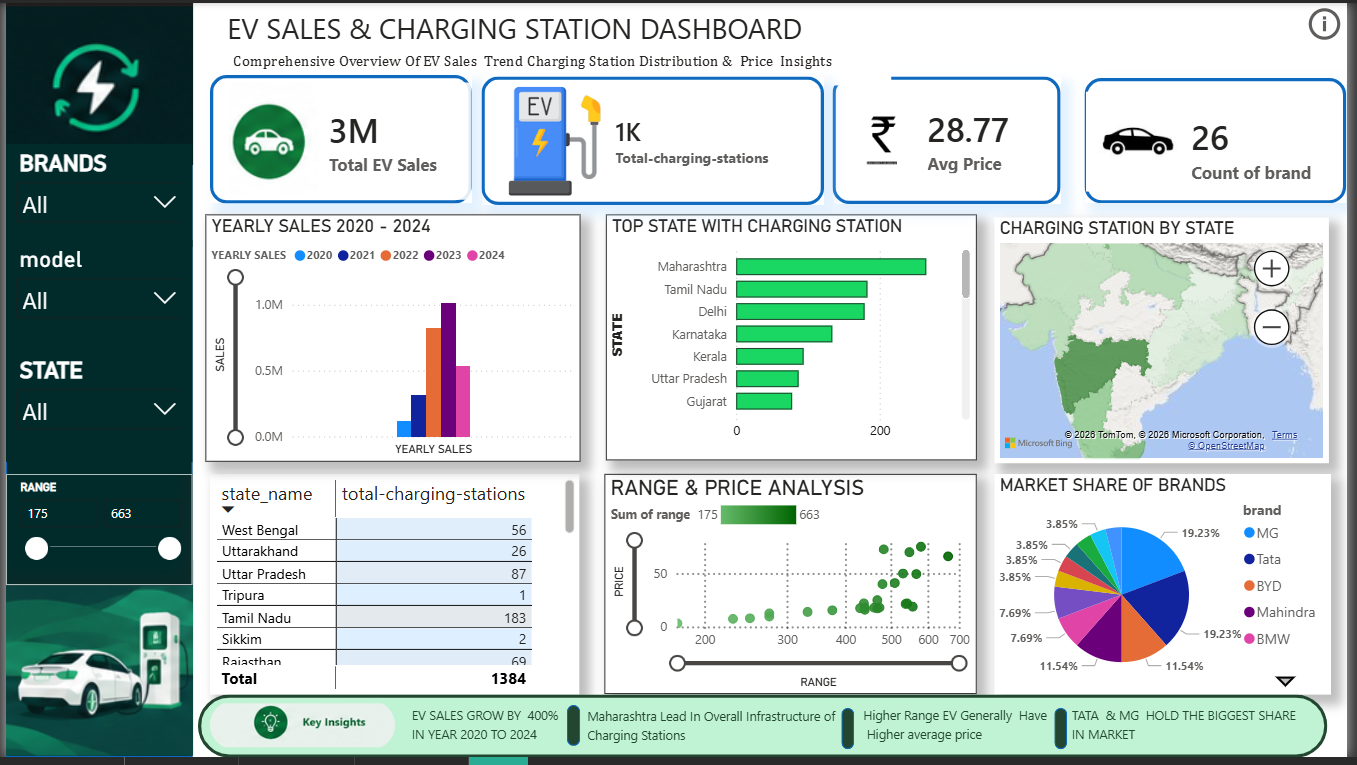

The page's visual inventory and layout, read from the dashboard file:
{"tool":"powerbi","page":{"name":"Page 2","canvas":[1280,720],"ordinal":1},"visuals":[{"type":"clusteredBarChart","title":"TOP STATE WITH CHARGING STATION ","fields":{"Category":["final_cleaned.state_name"],"Y":["Sum(final_cleaned.total-charging-stations)"]},"box":[573,202,353.8,234.9],"z":1000},{"type":"scatterChart","title":"RANGE & PRICE ANALYSIS","fields":{"X":["car_cleaned.range"],"Y":["car_cleaned.price"]},"box":[572,450,355,210],"z":2000},{"type":"shape","box":[789.2,70.2,217.7,121.8],"z":2500},{"type":"tableEx","fields":{"Values":["final_cleaned.state_name","Sum(final_cleaned.total-charging-stations)"]},"box":[195.3,449.7,352.8,210.5],"z":3000},{"type":"textbox","box":[212,40.1,633.1,38.7],"z":3500},{"type":"textbox","box":[206.3,0,644.6,50.1],"z":4000},{"type":"shape","box":[195.3,68.1,249.8,122.7],"z":6000},{"type":"cardVisual","fields":{"Data":["Table.Total EV Sales"]},"box":[279.3,75.9,164.7,111.7],"z":7000},{"type":"image","box":[195.3,75.7,121.1,107.5],"z":8000},{"type":"shape","box":[454.3,69.7,327.1,122.7],"z":9000},{"type":"cardVisual","fields":{"Data":["Sum(final_cleaned.total-charging-stations)"]},"box":[552.7,77.2,218,107.5],"z":10000},{"type":"image","box":[803.6,70.2,68.8,121.8],"z":11000},{"type":"cardVisual","fields":{"Data":["Table.Avg Price"]},"box":[850.8,81.6,150.4,98.8],"z":12000},{"type":"cardVisual","fields":{"Data":["CountNonNull(car_cleaned.brand)"]},"box":[1102.8,76.4,177.3,126.9],"z":13000},{"type":"shape","box":[1029.7,71.2,249.8,119.6],"z":14000},{"type":"image","box":[1032,78,94,110],"z":15000},{"type":"filledMap","title":"CHARGING STATION BY STATE ","fields":{"Category":["final_cleaned.state_name"]},"box":[943.3,204.4,319.5,234.7],"z":16000},{"type":"shape","box":[0,0,178,720],"z":17000},{"type":"image","box":[461.8,77.2,125.7,109],"z":18000},{"type":"clusteredColumnChart","title":"YEARLY SALES 2020 - 2024","fields":{"Y":["Sum(ev_sales.2020)","Sum(ev_sales.2021)","Sum(ev_sales.2022)","Sum(ev_sales.2023)","Sum(ev_sales.2024)"]},"box":[190,202,358,236],"z":19000},{"type":"pieChart","title":"MARKET SHARE  OF BRANDS","fields":{"Category":["car_cleaned.brand"],"Series":["car_cleaned.brand"],"Y":["CountNonNull(car_cleaned.brand)"]},"box":[943.3,449.7,321,210.5],"z":20000},{"type":"shape","box":[183.8,660.4,1078.4,60.2],"z":21000},{"type":"image","box":[195.4,665.4,176.9,46.9],"z":22000},{"type":"textbox","box":[383,665,189,50],"z":23000},{"type":"textbox","box":[549.4,665.5,256,51.2],"z":24000},{"type":"textbox","box":[813,665,217,47],"z":25000},{"type":"textbox","box":[1013,665,226,47],"z":26000},{"type":"shape","box":[535.7,670.2,12.5,39],"z":27000},{"type":"shape","box":[798.2,672.6,12,39.3],"z":28000},{"type":"shape","box":[1001.2,672.6,12,39.3],"z":29000},{"type":"image","box":[0,0,178.9,154.5],"z":30000},{"type":"image","box":[0,531.9,178.9,188.7],"z":31000},{"type":"actionButton","box":[1239,0,41.5,40.1],"z":32000},{"type":"slicer","fields":{"Values":["car_cleaned.brand"]},"box":[0,134,178,98],"z":33000},{"type":"slicer","fields":{"Values":["final_cleaned.state_name"]},"box":[0,332,178,106],"z":34000},{"type":"slicer","fields":{"Values":["car_cleaned.range"]},"box":[0,450,178,106],"z":35000},{"type":"slicer","fields":{"Values":["car_cleaned.model"]},"box":[0,226,178,106],"z":36000}]}

Visuals, with their boxes in screenshot pixels (x1, y1, x2, y2), scaled from the page's 1280x720 canvas onto the 1357x765 screenshot:
"TOP STATE WITH CHARGING STATION " clusteredBarChart: box(607, 215, 983, 464)
"RANGE & PRICE ANALYSIS" scatterChart: box(606, 478, 983, 701)
shape: box(837, 75, 1067, 204)
tableEx - final_cleaned.state_name x Sum(final_cleaned.total-charging-stations): box(207, 478, 581, 701)
textbox: box(225, 43, 896, 84)
textbox: box(219, 0, 902, 53)
shape: box(207, 72, 472, 203)
cardVisual - Table.Total EV Sales: box(296, 81, 471, 199)
image: box(207, 80, 335, 195)
shape: box(482, 74, 828, 204)
cardVisual - Sum(final_cleaned.total-charging-stations): box(586, 82, 817, 196)
image: box(852, 75, 925, 204)
cardVisual - Table.Avg Price: box(902, 87, 1061, 192)
cardVisual - CountNonNull(car_cleaned.brand): box(1169, 81, 1356, 216)
shape: box(1092, 76, 1356, 203)
image: box(1094, 83, 1194, 200)
"CHARGING STATION BY STATE " filledMap: box(1000, 217, 1339, 467)
shape: box(0, 0, 189, 764)
image: box(490, 82, 623, 198)
"YEARLY SALES 2020 - 2024" clusteredColumnChart: box(201, 215, 581, 465)
"MARKET SHARE  OF BRANDS" pieChart: box(1000, 478, 1340, 701)
shape: box(195, 702, 1338, 764)
image: box(207, 707, 395, 757)
textbox: box(406, 707, 606, 760)
textbox: box(582, 707, 854, 761)
textbox: box(862, 707, 1092, 756)
textbox: box(1074, 707, 1314, 756)
shape: box(568, 712, 581, 754)
shape: box(846, 715, 859, 756)
shape: box(1061, 715, 1074, 756)
image: box(0, 0, 190, 164)
image: box(0, 565, 190, 764)
actionButton: box(1314, 0, 1356, 43)
slicer - car_cleaned.brand: box(0, 142, 189, 246)
slicer - final_cleaned.state_name: box(0, 353, 189, 465)
slicer - car_cleaned.range: box(0, 478, 189, 591)
slicer - car_cleaned.model: box(0, 240, 189, 353)
